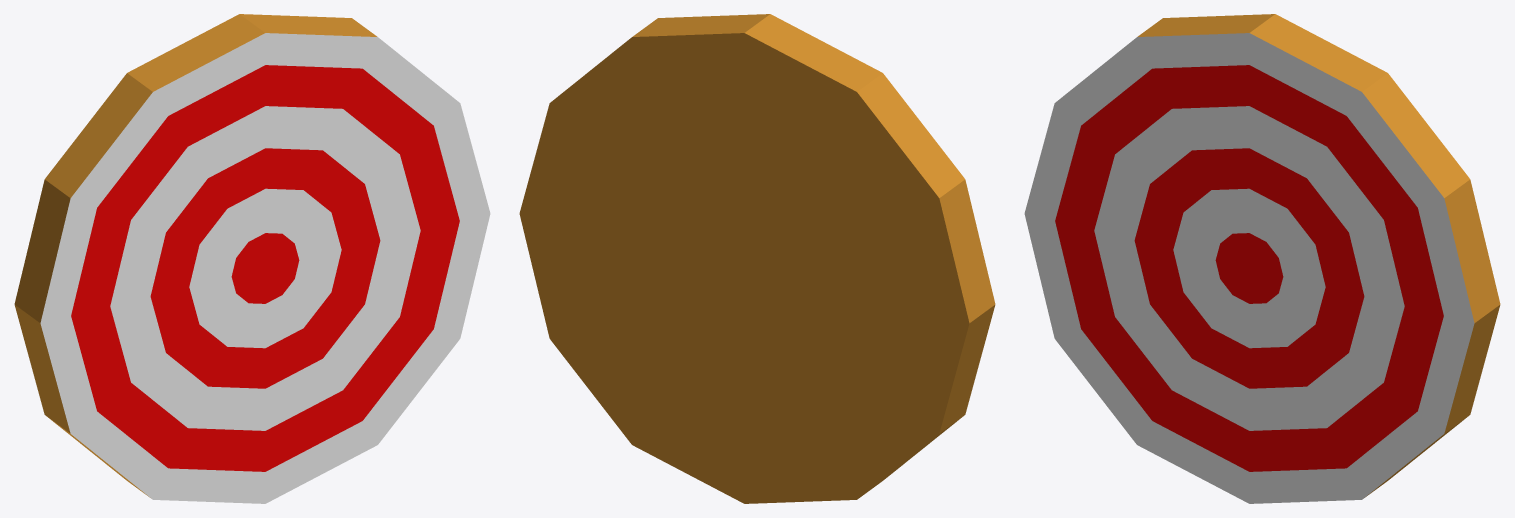
Rendered from Target_01.fbx.
3 renders of one model, left to right at view 1: azimuth 30°, elevation 25°; view 2: azimuth 150°, elevation 25°; view 3: azimuth 330°, elevation 25°, orthographic.
Parts seen in each view (by area): view 1: Target_01; view 2: Target_01; view 3: Target_01.
Boxes of the visible parts, box(x1,y1,x2,y2) form: Target_01: box(14, 14, 490, 503); Target_01: box(519, 14, 995, 503); Target_01: box(1024, 14, 1500, 503).
Size of the model in its own units: 50 by 50 by 5.
